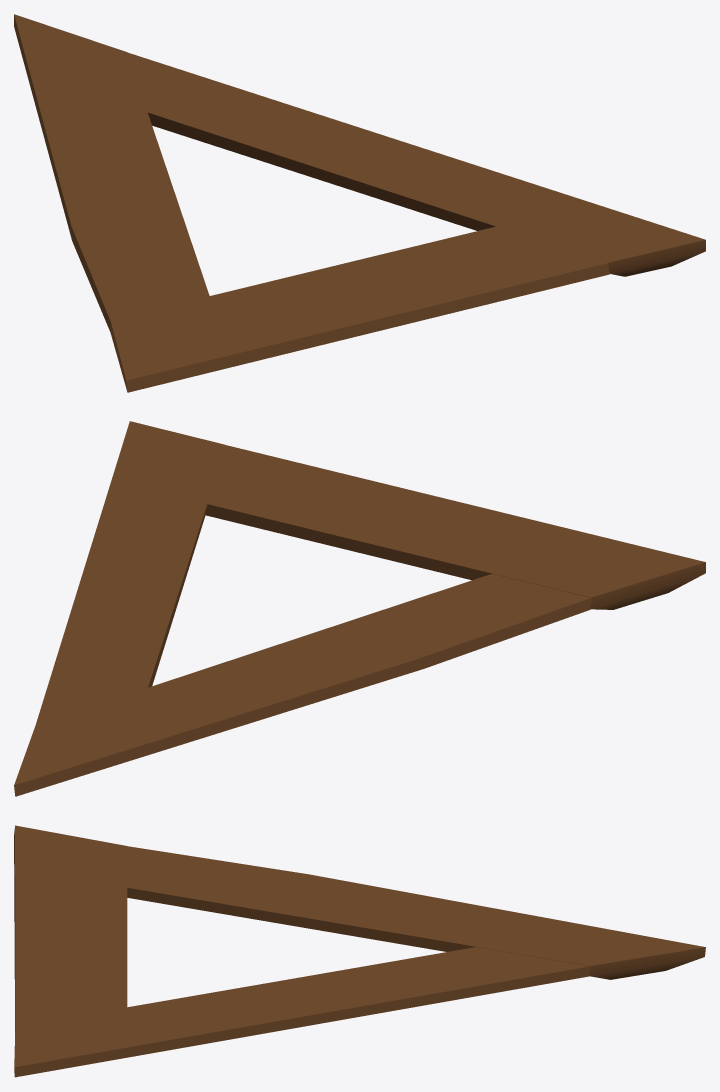
The model's file is sl45_willowSplitLogTriFloorSection1.glb.
3 renders of one model, top to bottom at view 1: azimuth 30°, elevation 25°; view 2: azimuth 150°, elevation 25°; view 3: azimuth 270°, elevation 25°, orthographic. The views are drawn at different scales.
Visible parts, largest first — view 1: Outside; view 2: Outside; view 3: Outside.
Boxes of the visible parts, x1=… form: Outside: x1=14, y1=14, x2=705, y2=392; Outside: x1=14, y1=421, x2=705, y2=796; Outside: x1=14, y1=825, x2=705, y2=1077.
Bounding box in the file's own units: 3.1 × 0.1233 × 3.74.
